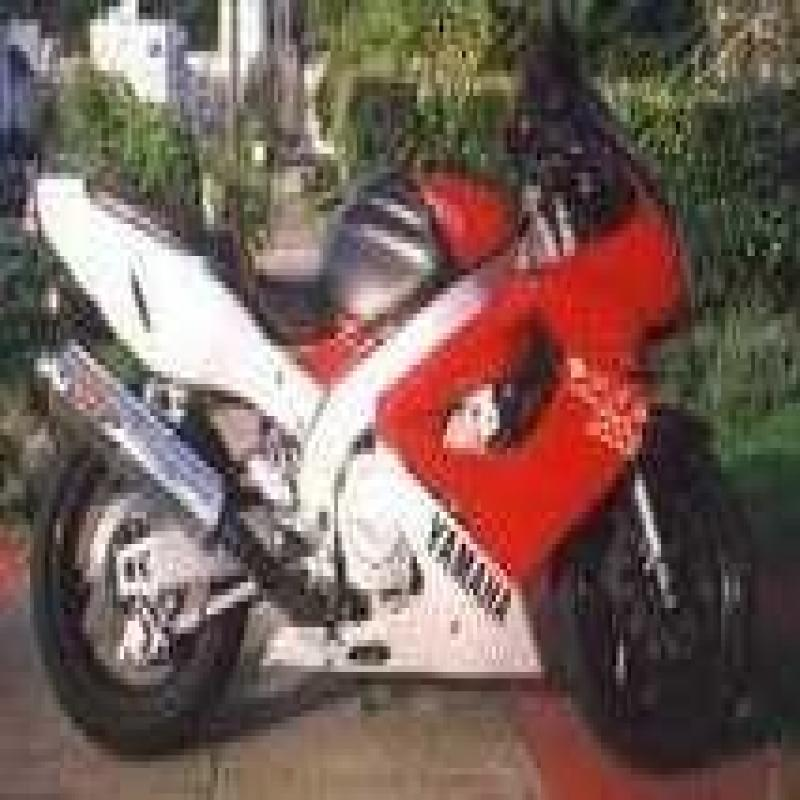bike: (8, 17, 762, 742)
